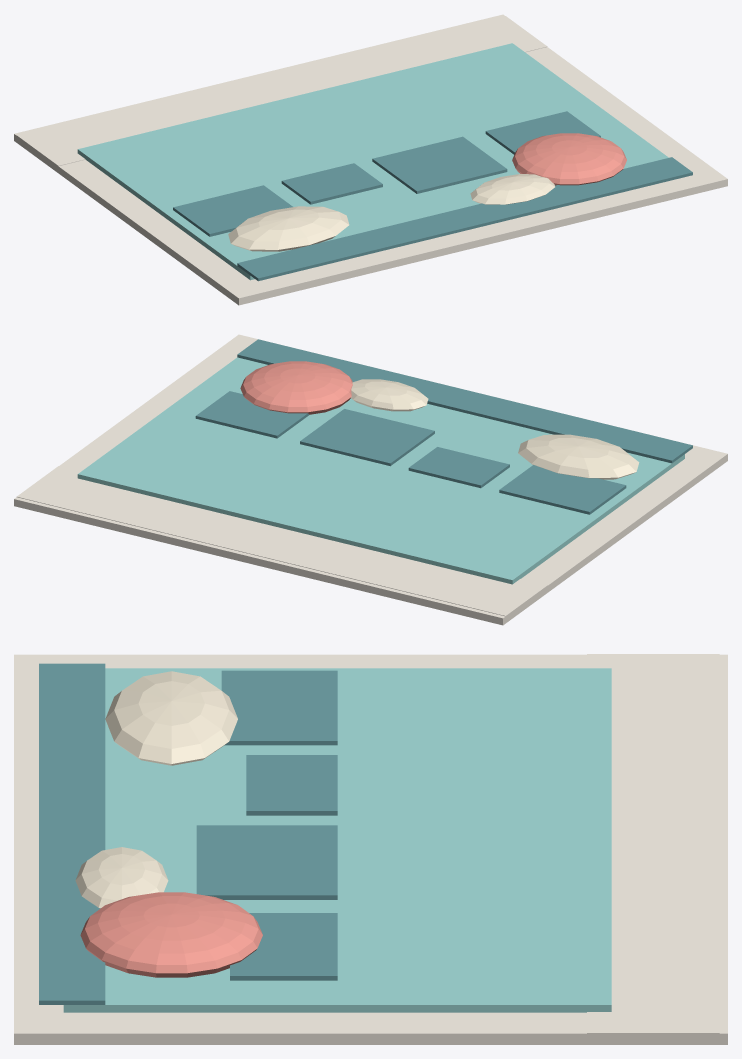
The model's file is item_78_instant_photo.glb.
3 renders of one model, top to bottom at view 1: azimuth 30°, elevation 25°; view 2: azimuth 150°, elevation 25°; view 3: azimuth 270°, elevation 25°, orthographic. The views are drawn at different scales.
Visible parts, largest first — view 1: I78_Photo, I78_Frame, I78_Margin, I78_Ground, I78_Sun, I78_City2, I78_Cloud0, I78_City0, I78_City1, I78_City3, I78_Cloud1; view 2: I78_Photo, I78_Margin, I78_Frame, I78_Ground, I78_Sun, I78_City2, I78_Cloud0, I78_City0, I78_City3, I78_City1, I78_Cloud1; view 3: I78_Photo, I78_Margin, I78_Frame, I78_Ground, I78_Sun, I78_City2, I78_Cloud0, I78_City0, I78_City3, I78_City1, I78_Cloud1.
Boxes of the visible parts, x1,y1,x2,y2 form: I78_Photo: (77, 43, 668, 280); I78_Frame: (14, 14, 727, 305); I78_Margin: (16, 16, 547, 172); I78_Ground: (237, 157, 692, 281); I78_Sun: (512, 133, 626, 185); I78_City2: (372, 136, 507, 193); I78_Cloud0: (228, 206, 349, 251); I78_City0: (173, 185, 292, 236); I78_City1: (281, 163, 382, 204); I78_City3: (485, 111, 600, 154); I78_Cloud1: (470, 174, 554, 204); I78_Photo: (77, 357, 684, 584); I78_Margin: (17, 466, 547, 622); I78_Frame: (14, 334, 727, 625); I78_Ground: (237, 339, 692, 463); I78_Sun: (240, 361, 352, 414); I78_City2: (300, 409, 434, 466); I78_Cloud0: (518, 434, 639, 479); I78_City0: (499, 465, 626, 514); I78_City3: (195, 391, 309, 438); I78_City1: (408, 447, 509, 488); I78_Cloud1: (351, 379, 428, 411); I78_Photo: (63, 668, 611, 1012); I78_Margin: (587, 654, 719, 1044); I78_Frame: (14, 654, 727, 1044); I78_Ground: (39, 663, 105, 1004); I78_Sun: (80, 892, 262, 977); I78_City2: (196, 825, 337, 899); I78_Cloud0: (105, 671, 237, 765); I78_City0: (221, 670, 337, 745); I78_City3: (230, 913, 337, 980); I78_City1: (246, 755, 337, 815); I78_Cloud1: (75, 847, 168, 908).
Size of the model in its own units: 0.108 by 0.00615 by 0.086.
